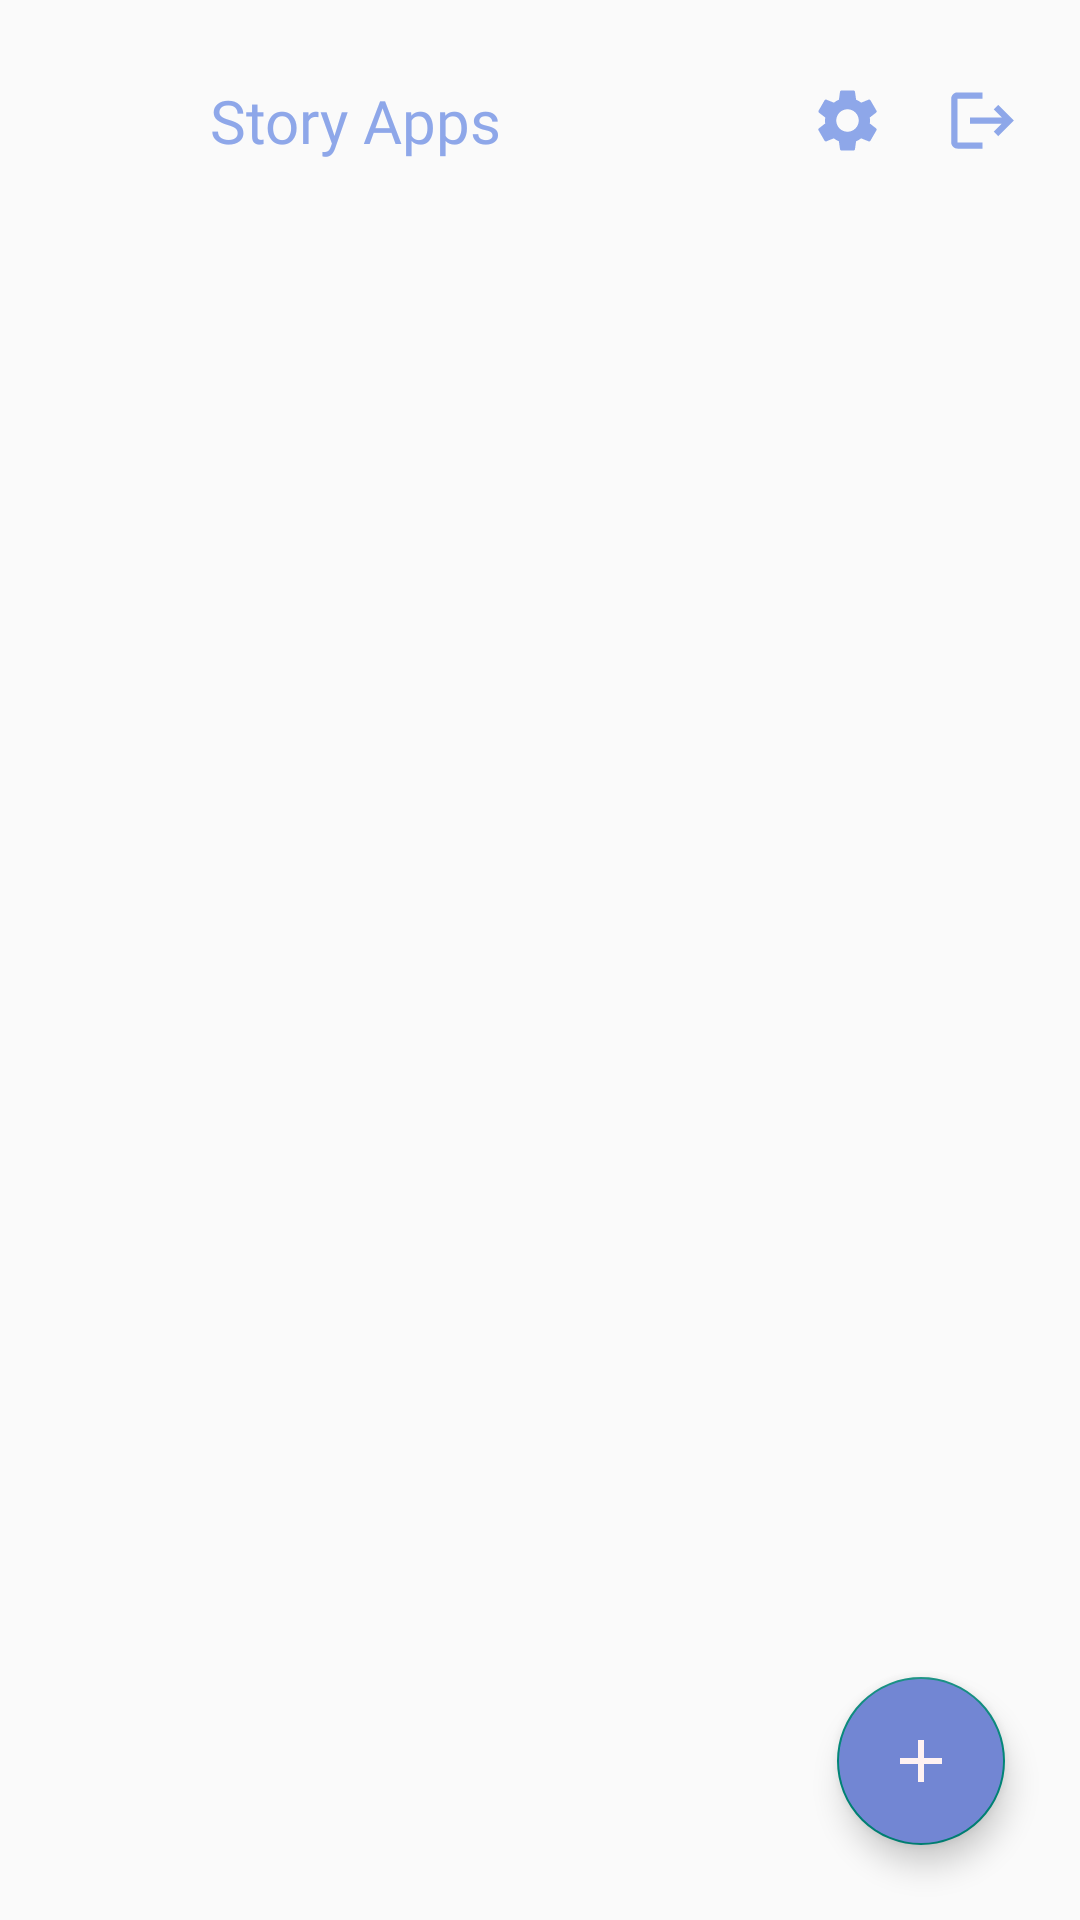

Locate icon controls on the screen. Image size 1080x1920, boxes as (x1, y1, x2, y2).
Add post: (837, 1677, 1005, 1845)
settings: (818, 90, 877, 151)
